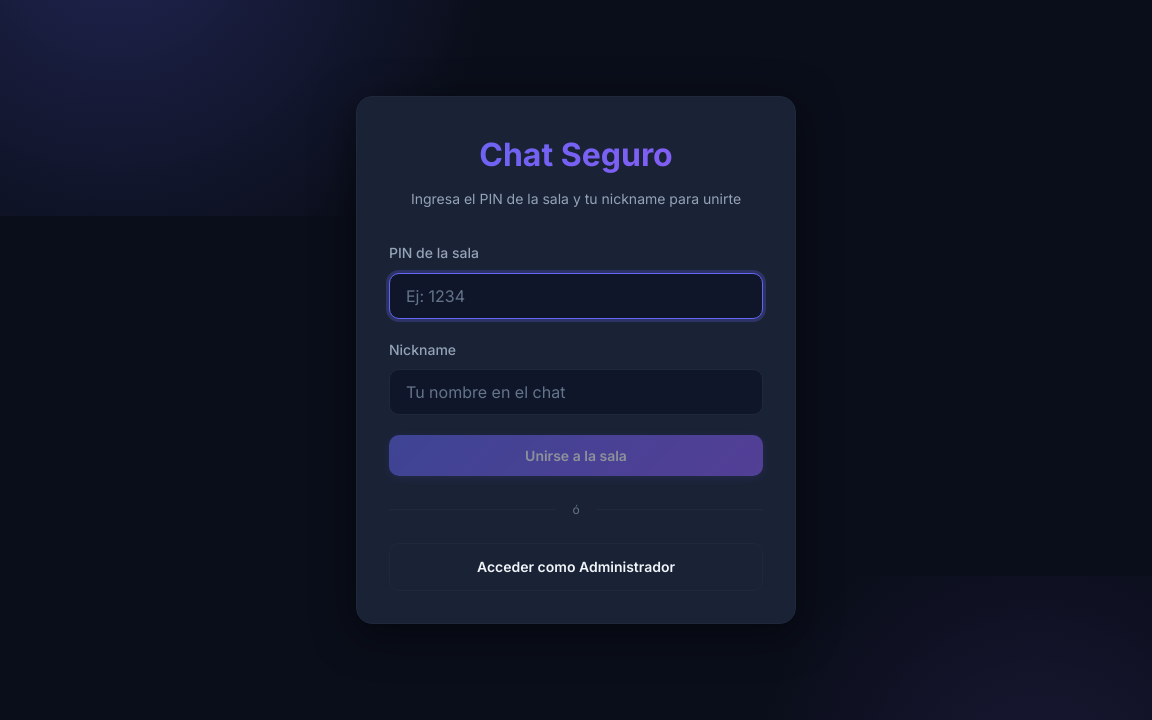
it: JoinRoom › shows error on failure
The width and height of the screenshot is (1152, 720).
In the field labelled "PIN de la sala": {"x": 576, "y": 296} [389,272,763,318], type "1234"
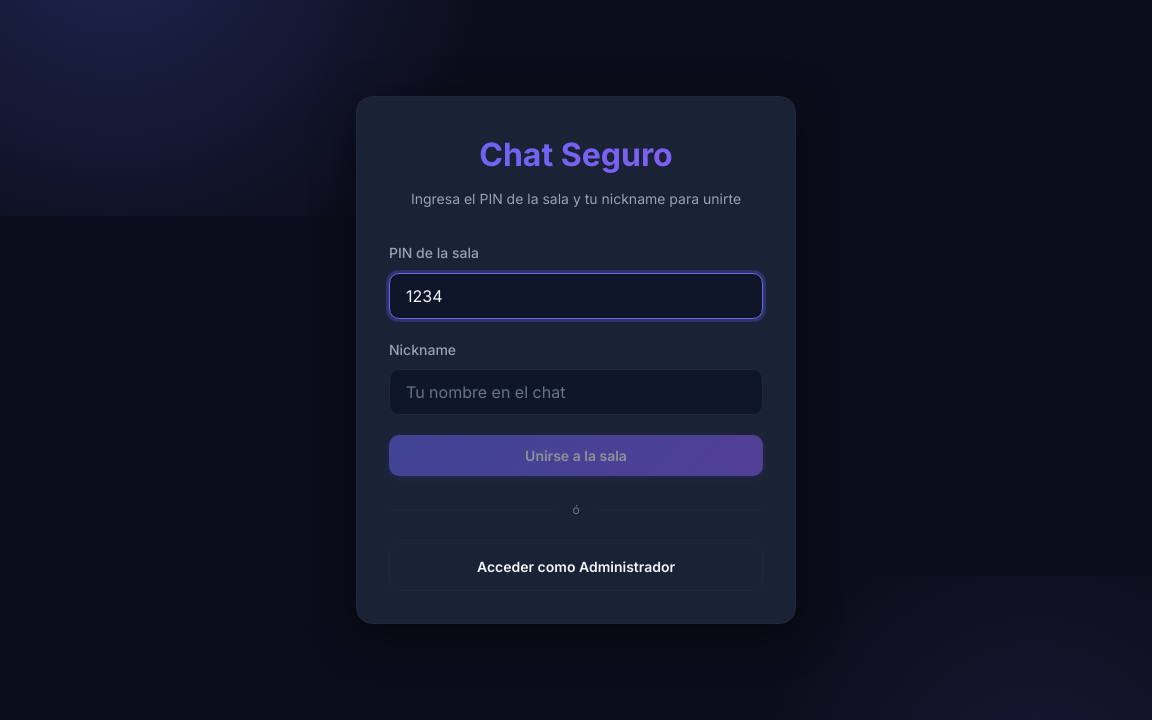
In the field labelled "Nickname": {"x": 576, "y": 392} [389,369,763,415], type "user1"
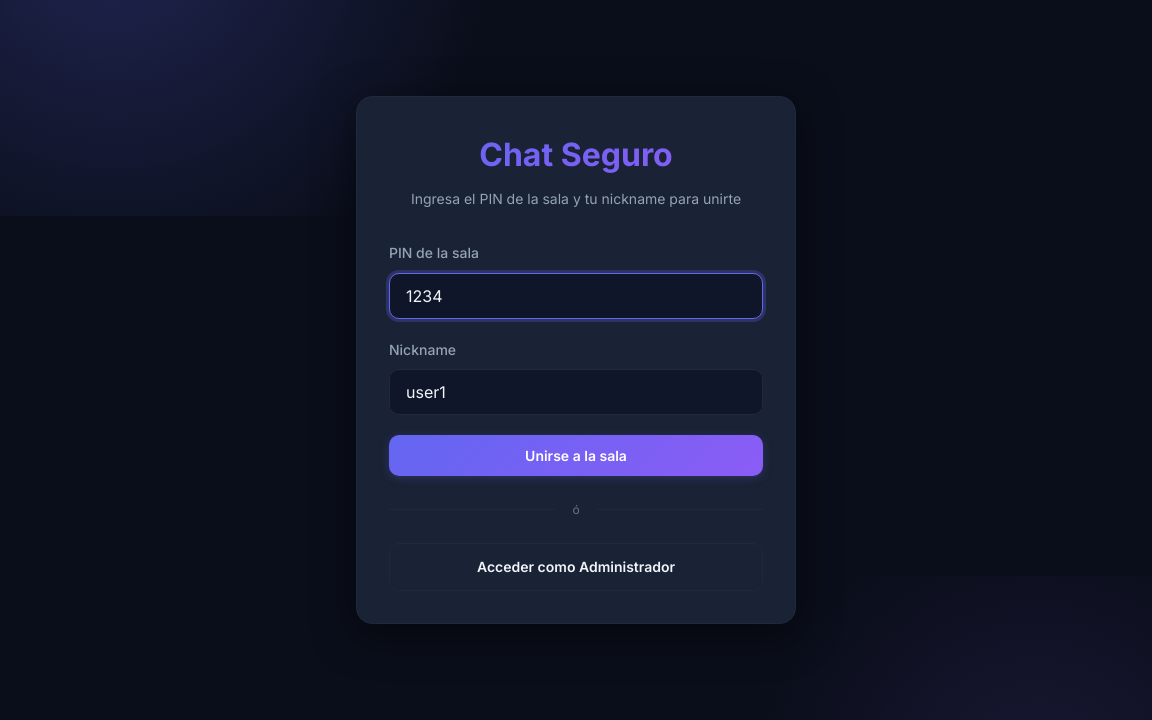
Click the button "Unirse a la sala": {"x": 576, "y": 455} [389,435,763,476]
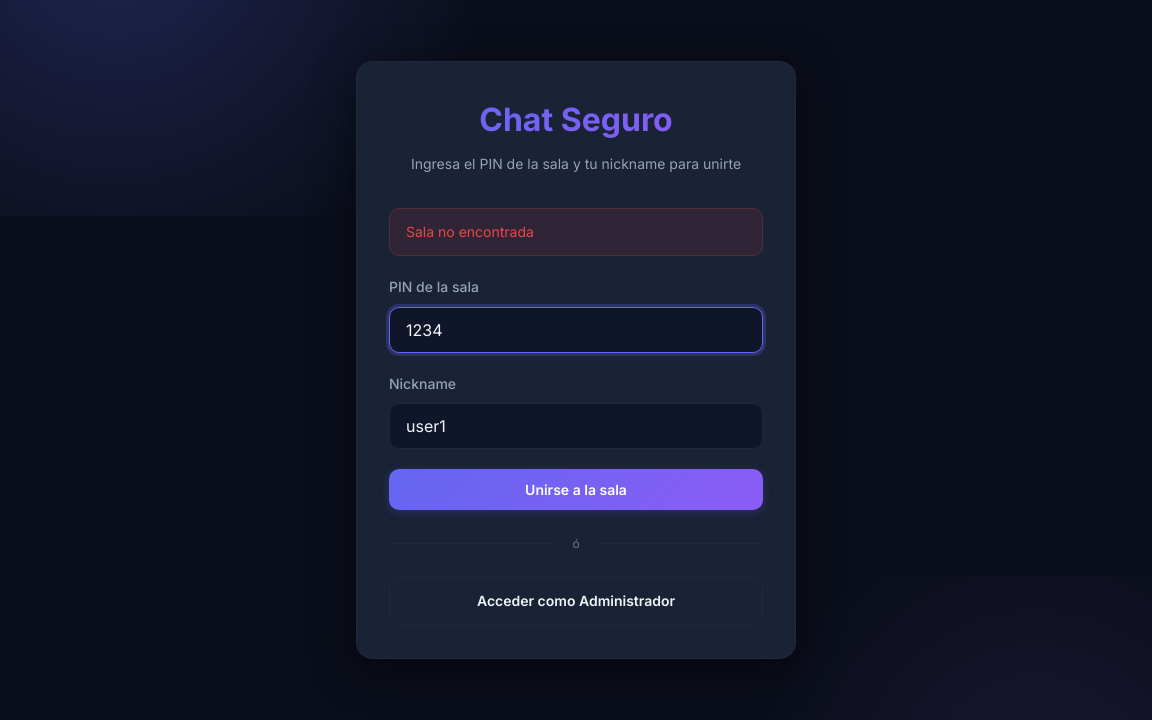
Expected: the text "Sala no encontrada" is shown, [389,208,763,256]
